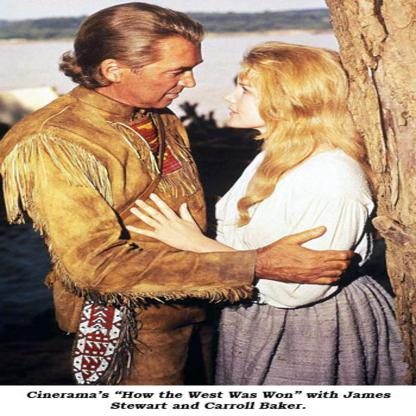face: (129, 39, 201, 112), (226, 62, 283, 127)
